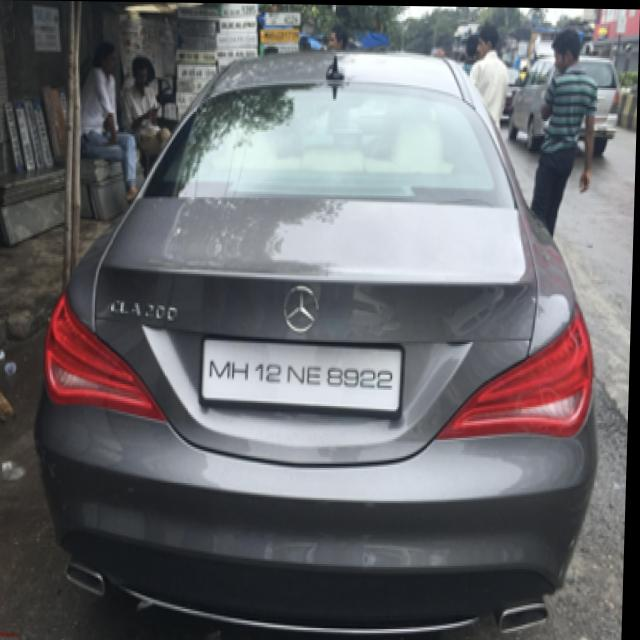licence: (202, 335, 408, 412)
